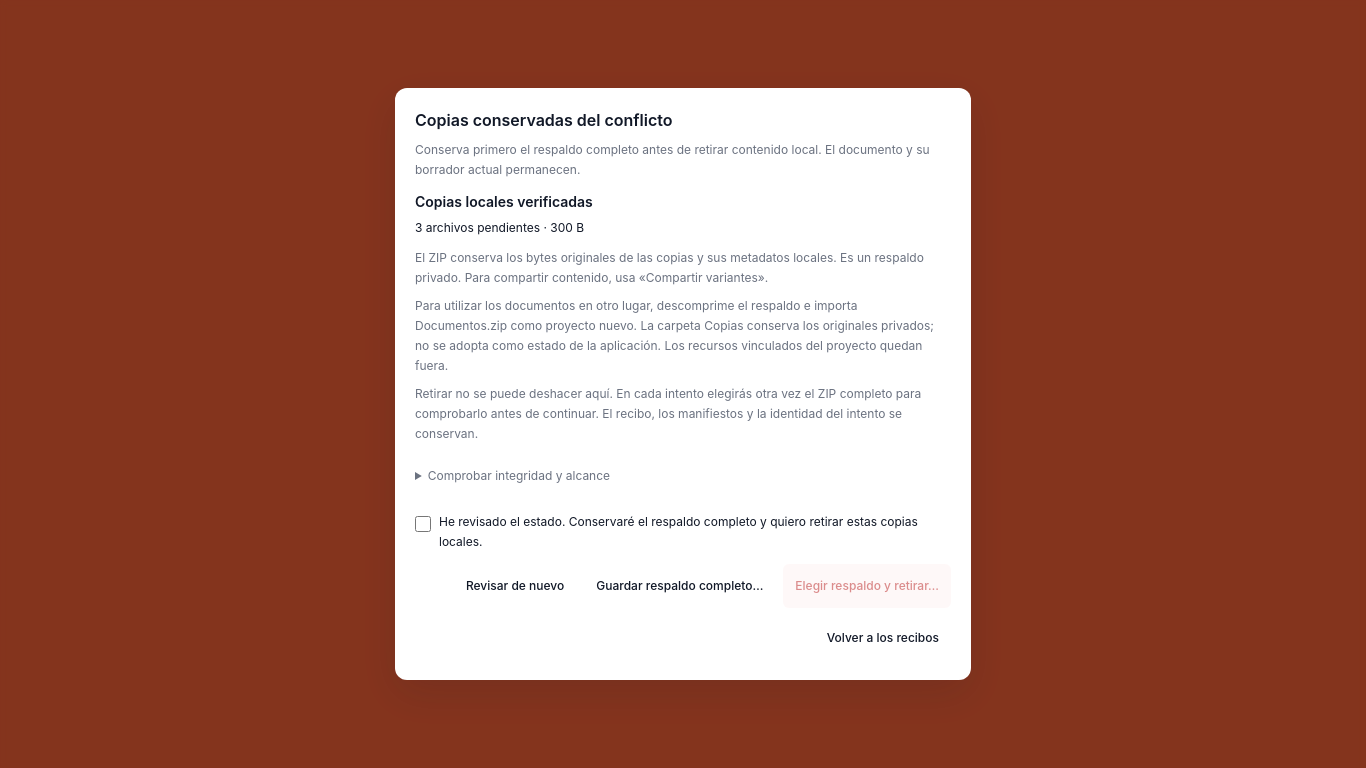
keeps backup distinct from permanent retirement and does not infer deletion authority from a saved ZIP
Click the button "Guardar respaldo completo…".
click(680, 586)  # box left=584, top=564, right=775, bottom=608
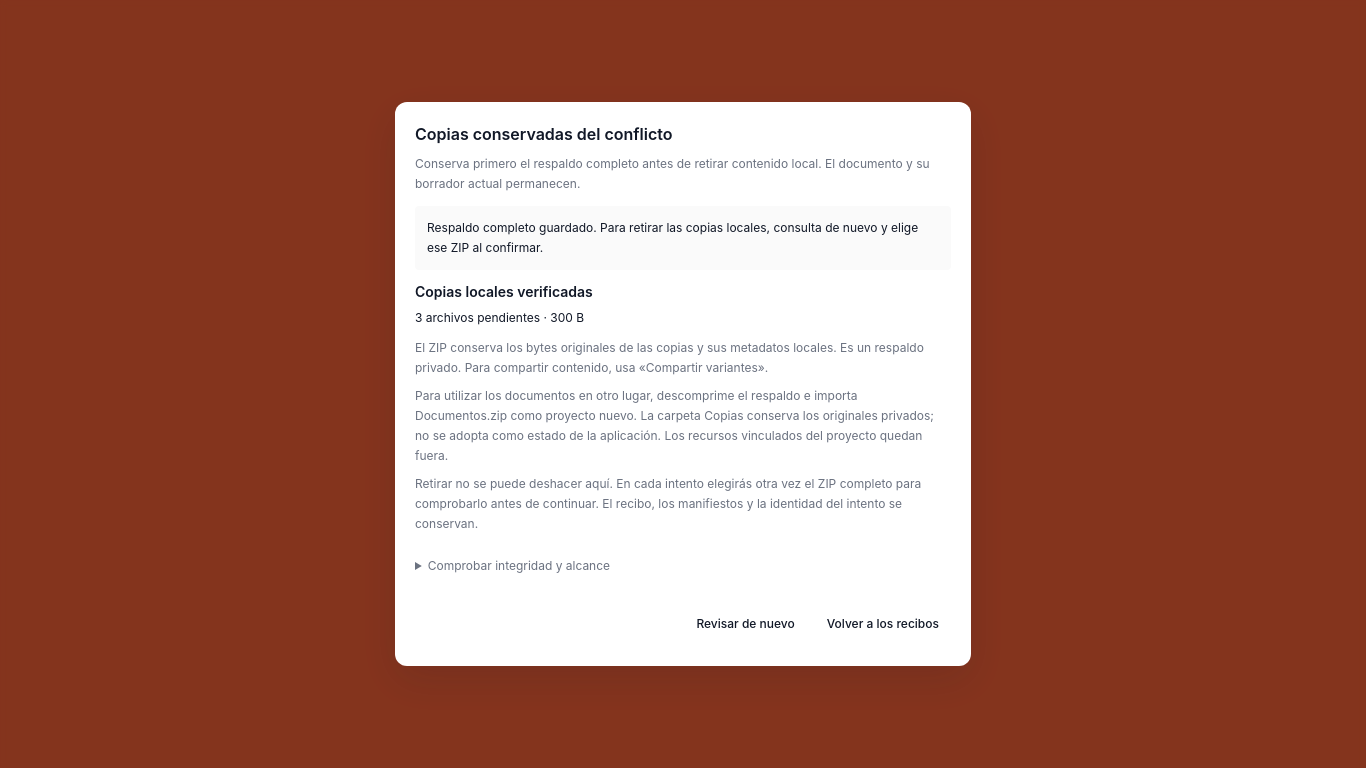
Check: the text "Es un respaldo privado" is shown, box left=415, top=340, right=924, bottom=375
Check: the text "Respaldo completo guardado" is shown, box left=427, top=220, right=918, bottom=255
Check: the button "Elegir respaldo y retirar…" is gone
